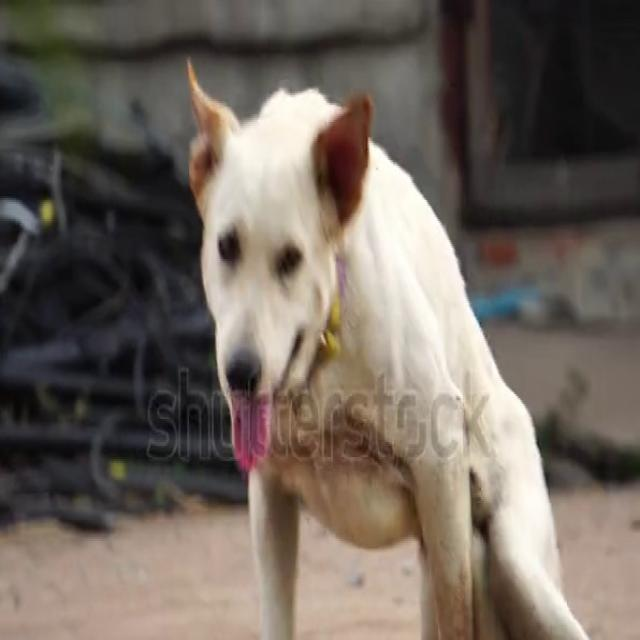normal_animals: (178, 53, 616, 638)
